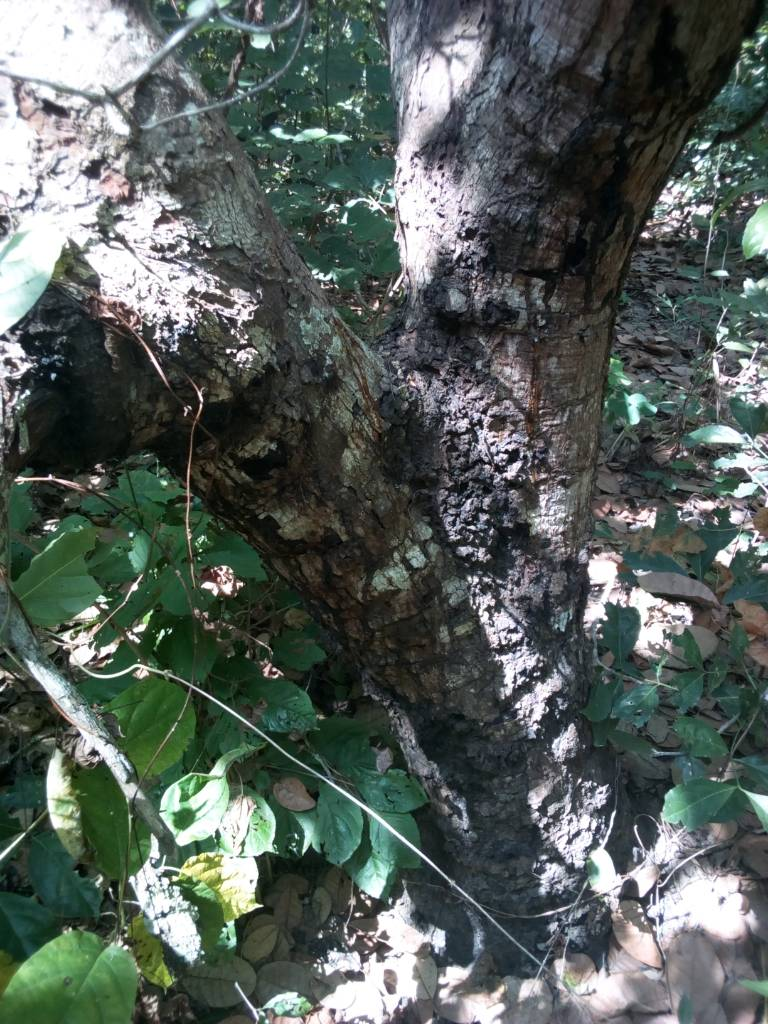Termites: (390, 339, 586, 646), (435, 682, 619, 946)
